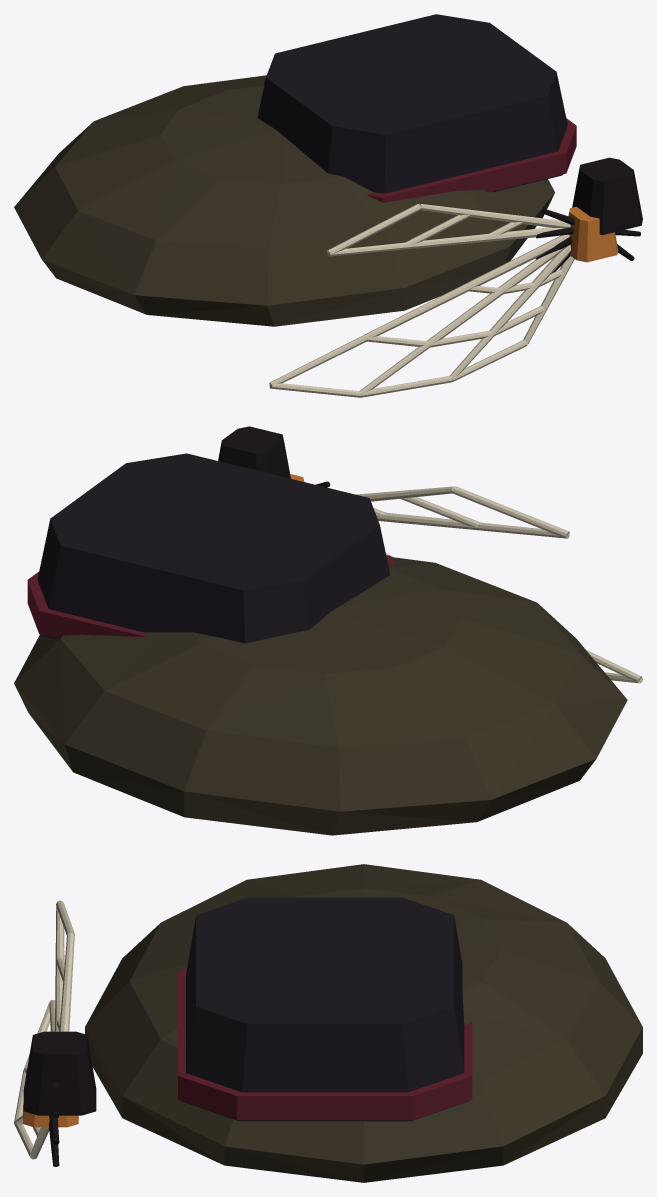
Rendered from webpin.glb.
3 renders of one model, top to bottom at view 1: azimuth 30°, elevation 25°; view 2: azimuth 150°, elevation 25°; view 3: azimuth 270°, elevation 25°, orthographic. The views are drawn at different scales.
Parts seen in each view (by area): view 1: Cobweb Brow Pin.002; view 2: Cobweb Brow Pin.002; view 3: Cobweb Brow Pin.002.
Boxes of the visible parts, x1,y1,x2,y2 form: Cobweb Brow Pin.002: [14, 14, 642, 397]; Cobweb Brow Pin.002: [14, 426, 642, 835]; Cobweb Brow Pin.002: [14, 864, 642, 1182].
Bounding box in the file's own units: 0.5317 × 0.1968 × 0.5137.
